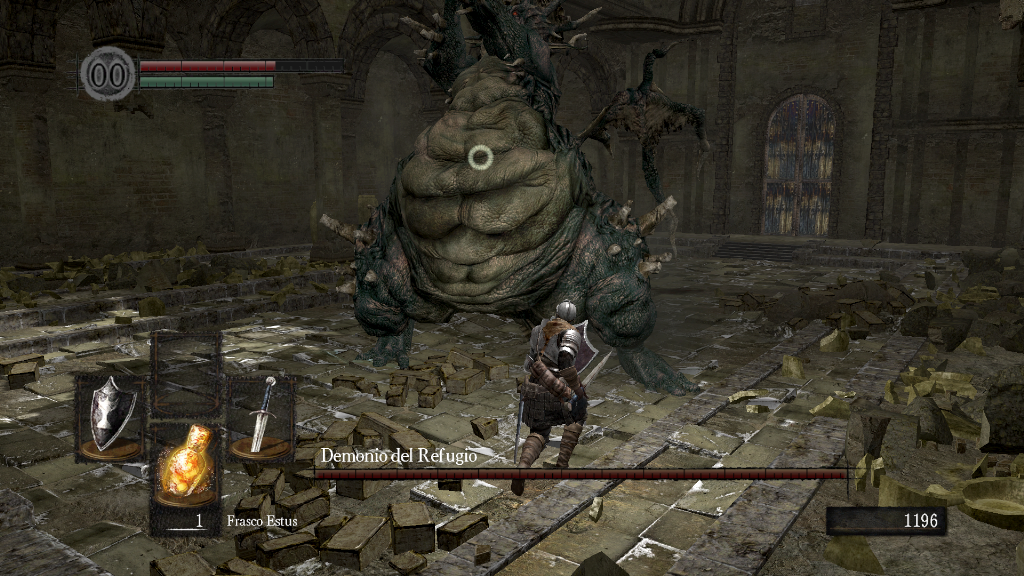asylumDemon: (320, 4, 714, 397)
bossHP: (314, 469, 847, 479)
health: (138, 58, 343, 71)
humanity: (80, 45, 136, 102)
player: (508, 298, 616, 494)
souls: (825, 506, 945, 536)
stamina: (138, 74, 274, 88)
